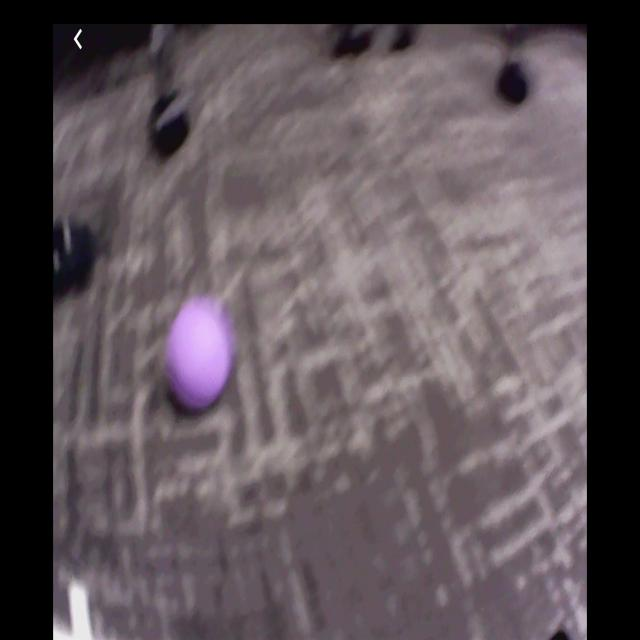ball: (169, 304, 230, 409)
